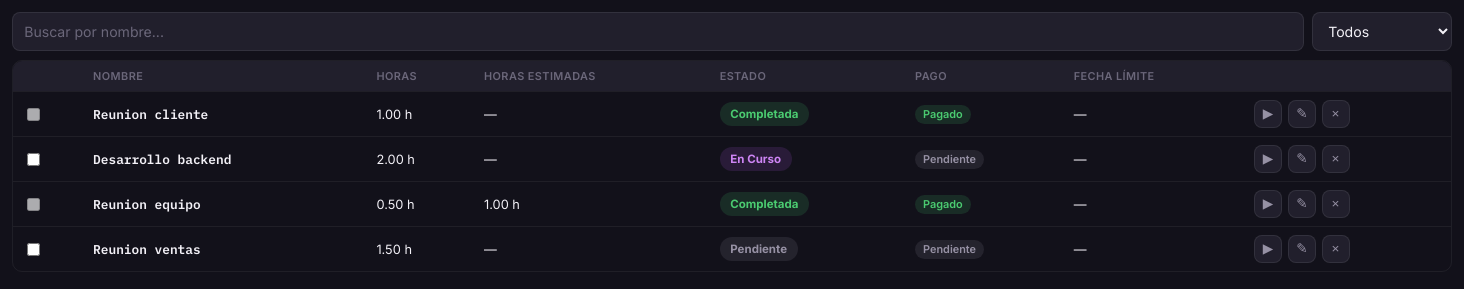
it: TareasTable: filtrado combinado › combina búsqueda por nombre y filtro de pago (AND, no OR)
Check: the button "Reunion cliente" is shown, box top-left (93, 106), bottom-right (208, 123)
Type "reunion" into the search field with placeholder "Buscar por nombre..." at (658, 31), box top-left (12, 12), bottom-right (1304, 51)
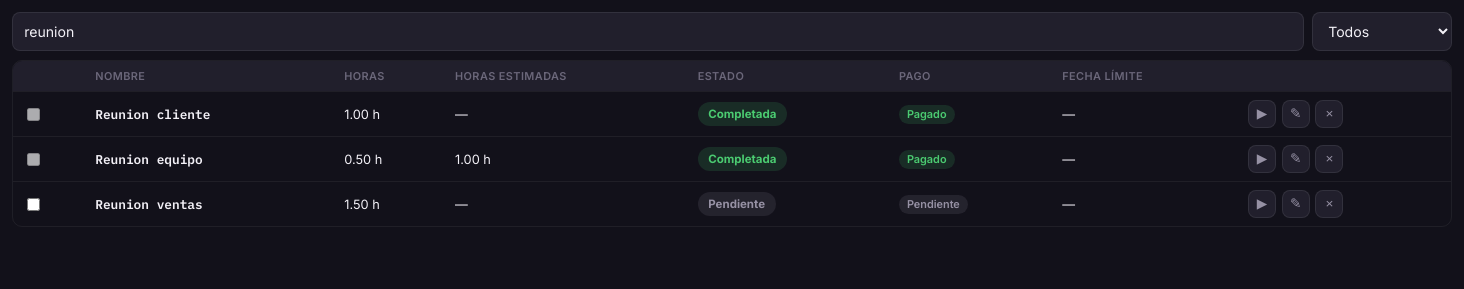
Select "Pagadas" in the dropdown at (1382, 31), box top-left (1312, 12), bottom-right (1452, 51)
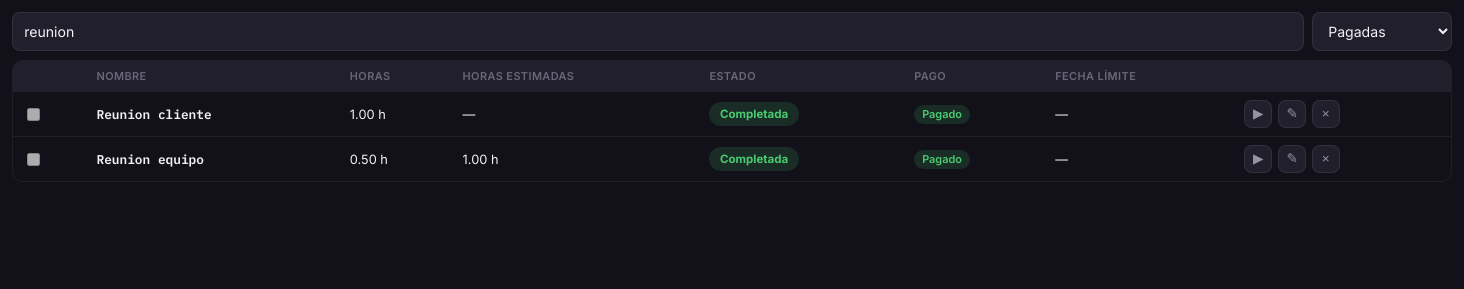
Check: the button "Reunion cliente" is shown, box top-left (96, 106), bottom-right (212, 123)
Check: the button "Reunion ventas" is gone
